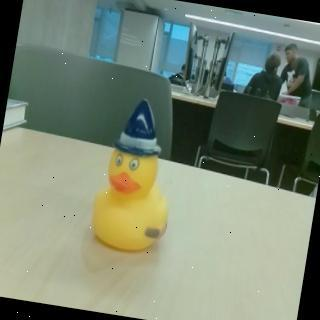duck_specialty: (87, 92, 189, 258)
